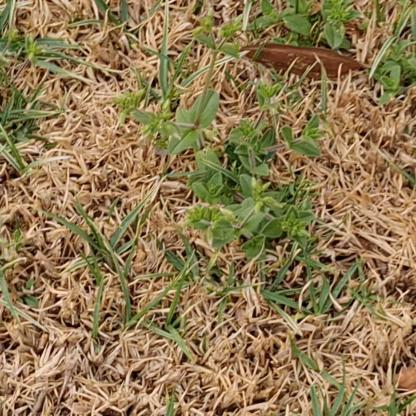Weeds: (121, 18, 324, 273), (250, 2, 412, 99)
